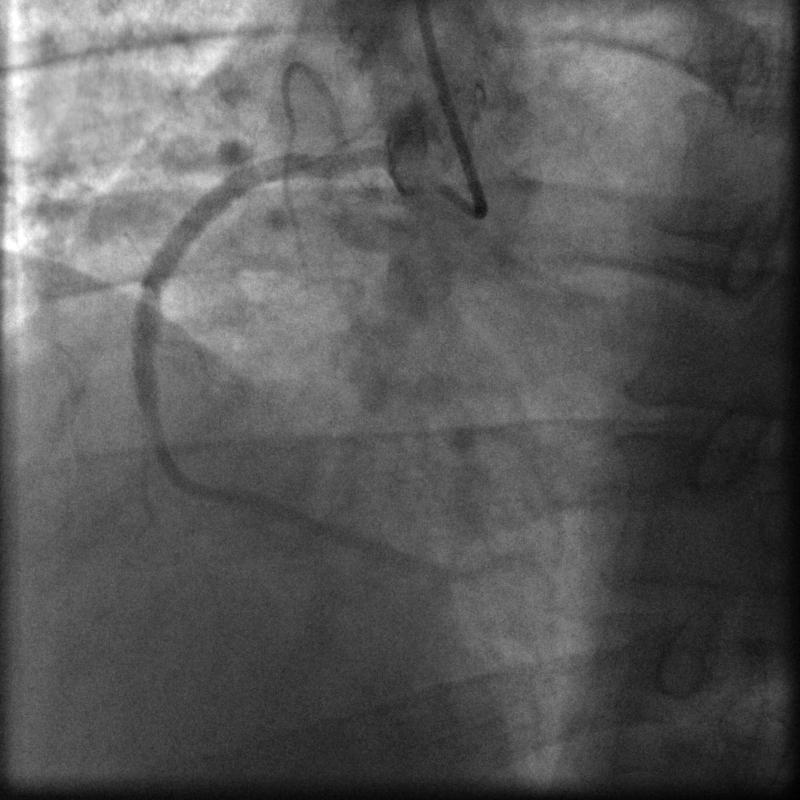Stenosis: (134, 391, 170, 474)
